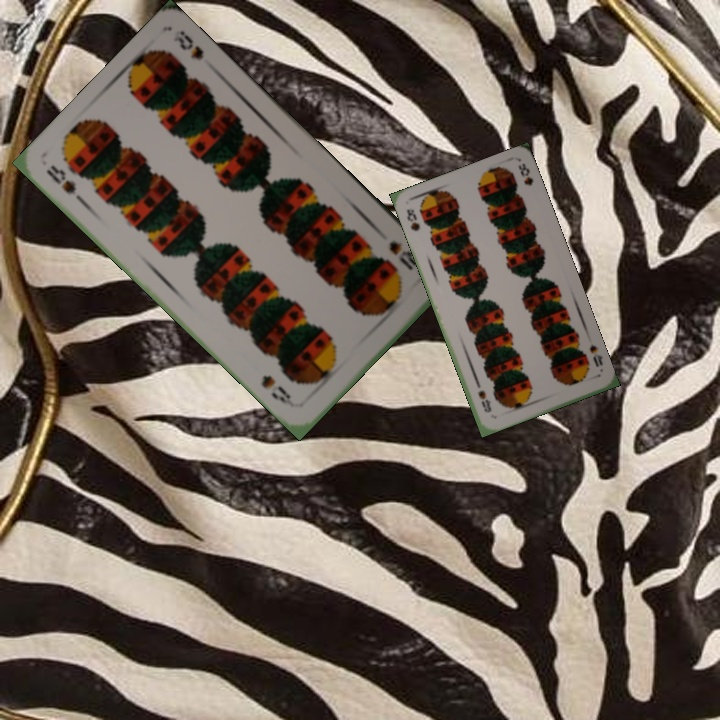S8: (41, 160, 89, 208), (384, 237, 420, 273), (585, 340, 605, 370), (402, 205, 422, 234)
